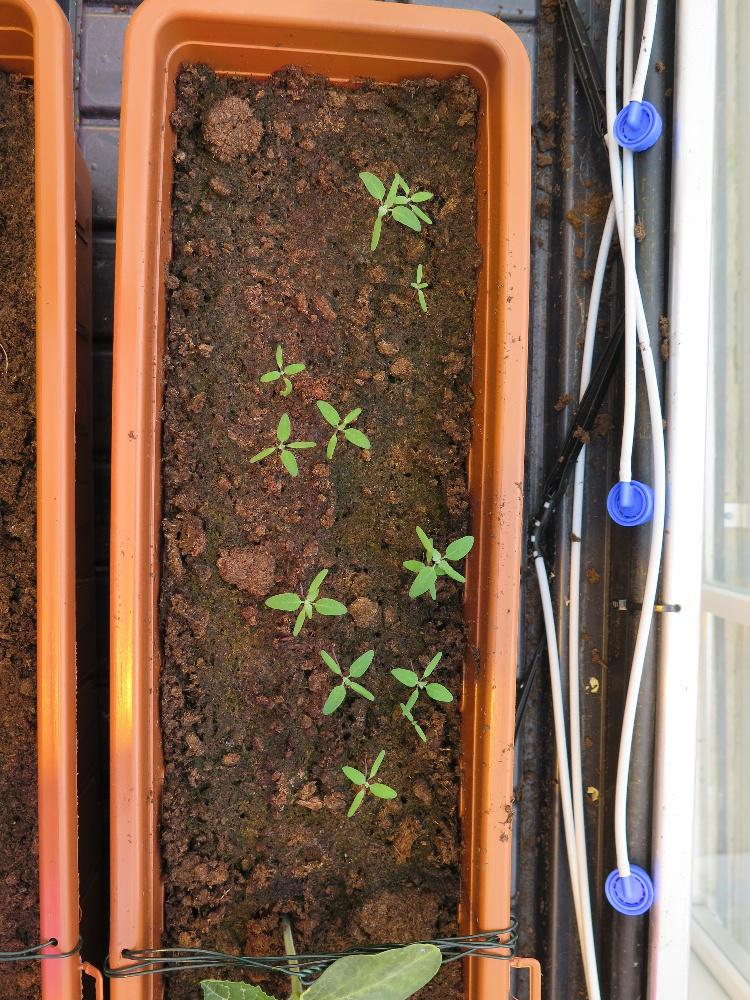weed: (263, 566, 347, 637), (247, 411, 314, 477), (339, 745, 396, 817), (318, 646, 373, 716), (314, 397, 370, 461), (258, 342, 304, 396), (408, 257, 428, 312)
